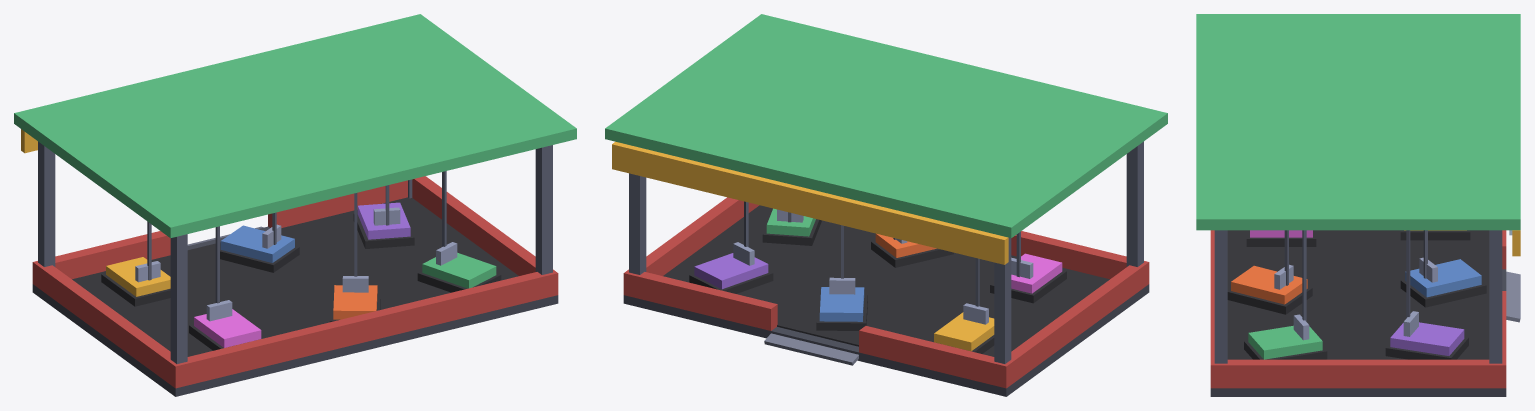
The model's file is auto-tamponneuse.glb.
3 renders of one model, left to right at view 1: azimuth 30°, elevation 25°; view 2: azimuth 150°, elevation 25°; view 3: azimuth 270°, elevation 25°, orthographic. The views are drawn at different scales.
Parts seen in each view (by area): view 1: toit, piste, muret-arriere, plancher, muret-lateral-0, muret-lateral-1, muret-facade-0, poteau-3, poteau-2, muret-facade-1, poteau-0, voiture-5-coque (+9 smaller); view 2: toit, piste, nez, plancher, muret-facade-1, muret-facade-0, muret-lateral-0, muret-lateral-1, muret-arriere, poteau-2, poteau-0, poteau-1 (+12 smaller); view 3: toit, piste, muret-lateral-1, plancher, poteau-1, poteau-3, voiture-5-coque, voiture-2-coque, voiture-1-coque, voiture-4-coque, muret-arriere, voiture-1-pare-chocs (+14 smaller).
Part boxes in pixels (<box>): toit: <box>14,14,576,238</box>; piste: <box>72,197,518,356</box>; muret-arriere: <box>169,269,558,388</box>; plancher: <box>32,226,558,396</box>; muret-lateral-0: <box>39,265,171,383</box>; muret-lateral-1: <box>412,176,535,275</box>; muret-facade-0: <box>32,231,170,288</box>; poteau-3: <box>535,145,552,274</box>; poteau-2: <box>170,234,187,363</box>; muret-facade-1: <box>268,180,407,227</box>; poteau-0: <box>38,141,55,266</box>; voiture-5-coque: <box>422,252,496,288</box>; toit: <box>605,14,1167,238</box>; piste: <box>663,205,1109,356</box>; nez: <box>612,141,1008,264</box>; plancher: <box>623,284,1149,396</box>; muret-facade-1: <box>623,269,777,330</box>; muret-facade-0: <box>859,326,1012,388</box>; muret-lateral-0: <box>1010,265,1142,383</box>; muret-lateral-1: <box>646,197,759,275</box>; muret-arriere: <box>1011,231,1149,288</box>; poteau-2: <box>1126,141,1143,266</box>; poteau-0: <box>994,237,1011,363</box>; poteau-1: <box>629,173,646,274</box>; toit: <box>1196,14,1520,230</box>; piste: <box>1227,230,1489,359</box>; muret-lateral-1: <box>1224,359,1492,388</box>; plancher: <box>1210,269,1506,396</box>; poteau-1: <box>1489,230,1502,363</box>; poteau-3: <box>1214,230,1227,363</box>; voiture-5-coque: <box>1248,325,1322,359</box>; voiture-2-coque: <box>1390,322,1464,355</box>; voiture-1-coque: <box>1405,259,1481,297</box>; voiture-4-coque: <box>1231,265,1307,304</box>; muret-arriere: <box>1210,230,1224,388</box>; voiture-1-pare-chocs: <box>1400,279,1486,307</box>.
Bounding box in the file's own units: 0.6 × 0.25 × 0.4.
